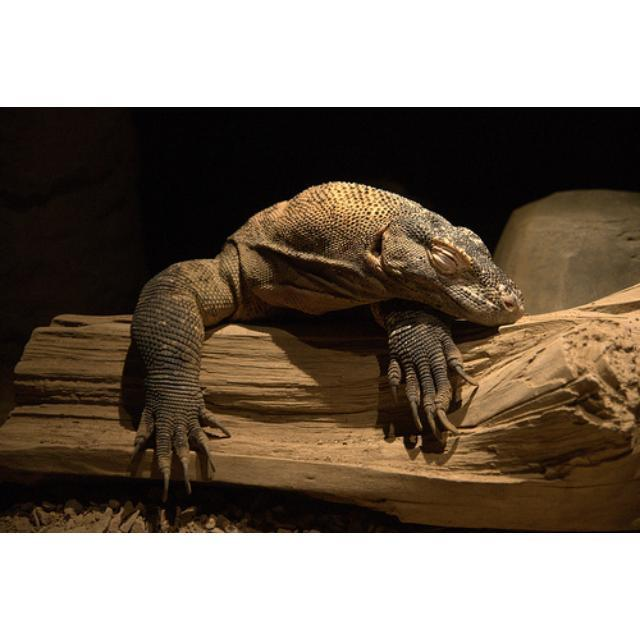KomodoDragon: (128, 182, 526, 499)
